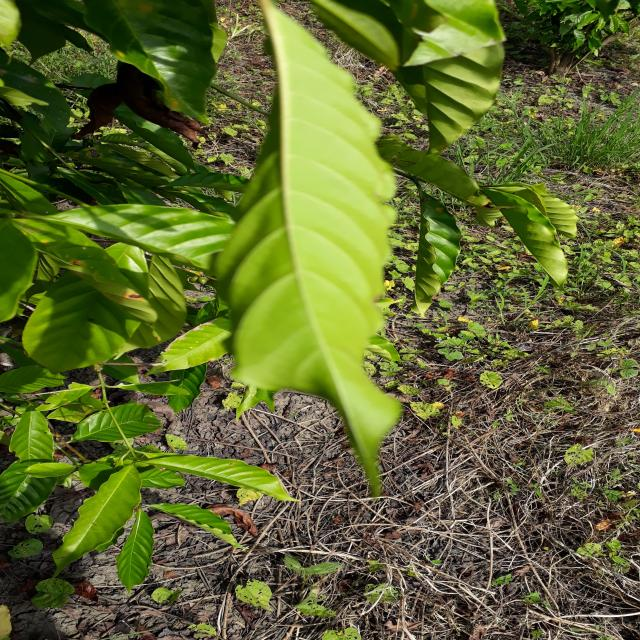Sanas: (224, 0, 402, 497)
